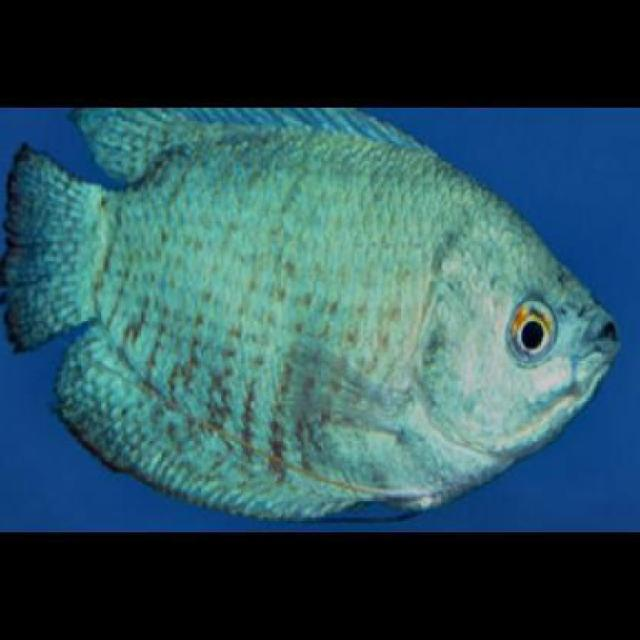Gourami: (0, 106, 622, 526)
